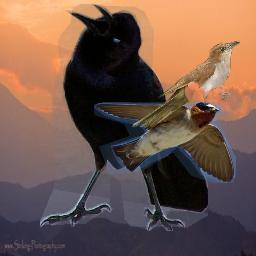Crow: (40, 4, 208, 231)
Cuckoo: (132, 41, 240, 128)
Swallow: (94, 102, 236, 183)
